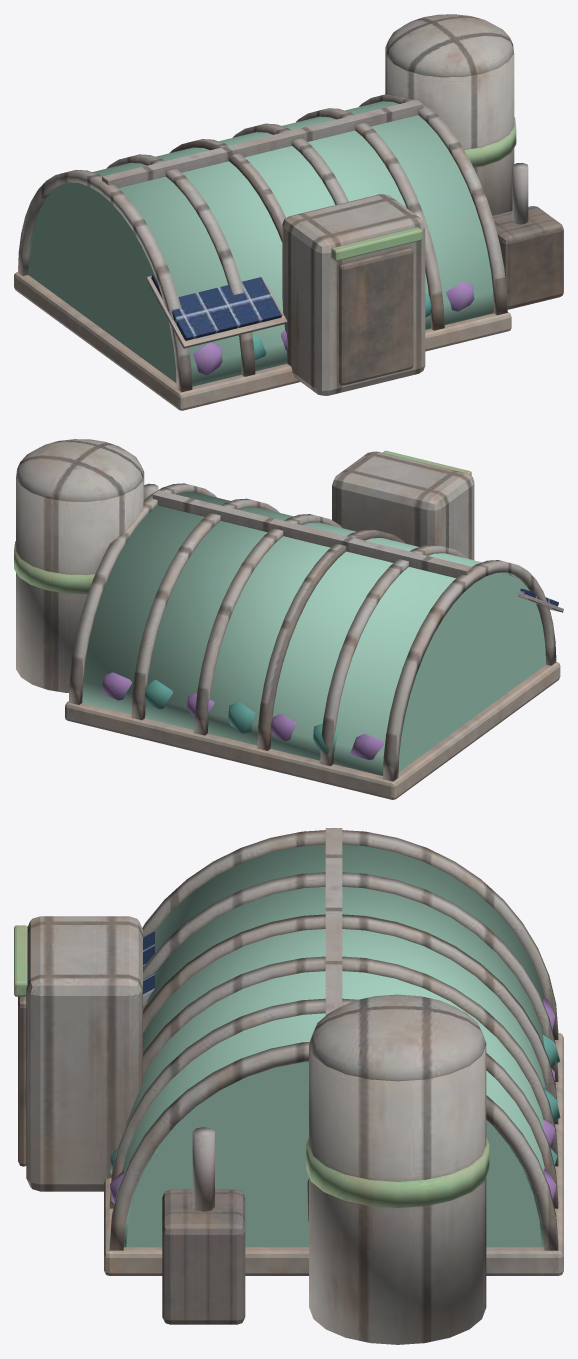
Rendered from farmhouse.glb.
The picture shows the model from 3 angles, top to bottom: view 1: azimuth 30°, elevation 25°; view 2: azimuth 150°, elevation 25°; view 3: azimuth 270°, elevation 25°; orthographic projection. The views are drawn at different scales.
Parts seen in each view (by area): view 1: farmhouse; view 2: farmhouse; view 3: farmhouse.
Boxes of the visible parts, x1,y1,x2,y2 form: farmhouse: [14, 14, 563, 410]; farmhouse: [14, 439, 563, 799]; farmhouse: [14, 828, 563, 1344].
Bounding box in the file's own units: 2.48 × 1.18 × 1.98.
1 material, 1 textured.
